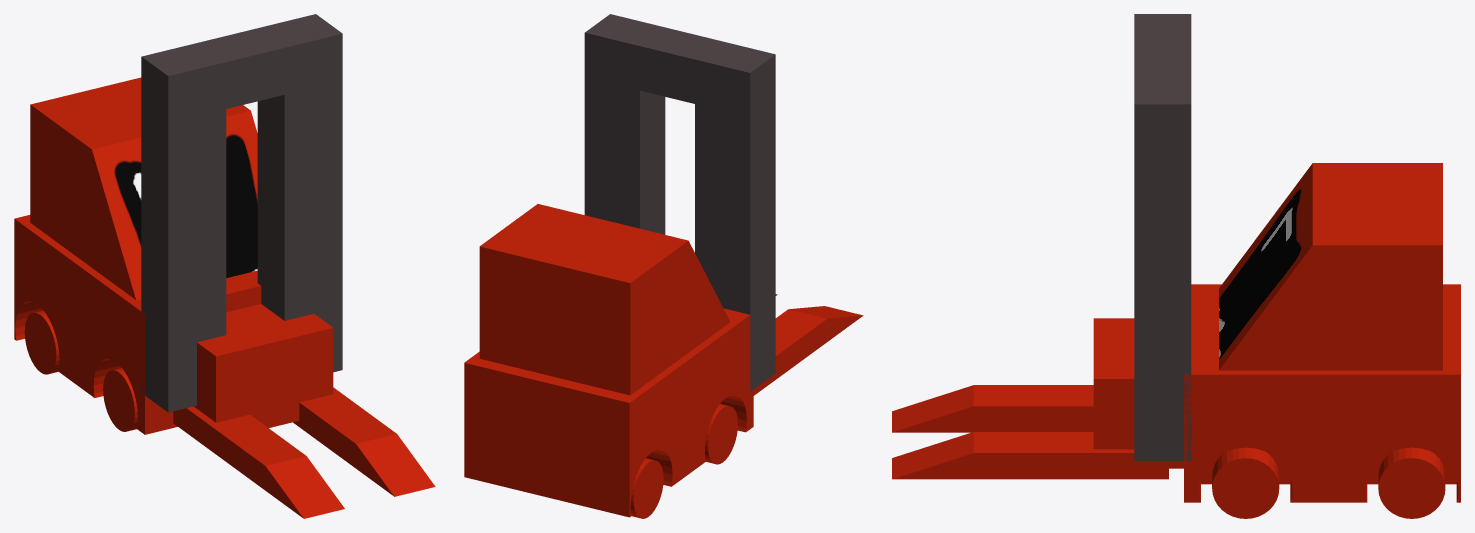
Rendered from forklift.glb.
3 renders of one model, left to right at view 1: azimuth 30°, elevation 25°; view 2: azimuth 150°, elevation 25°; view 3: azimuth 270°, elevation 25°, orthographic. The views are drawn at different scales.
Parts seen in each view (by area): view 1: Cube; view 2: Cube; view 3: Cube.
Part boxes in pixels (box(x1,y1,x2,y2)): Cube: box(14, 14, 435, 518); Cube: box(464, 14, 863, 518); Cube: box(892, 14, 1460, 518).
Size of the model in its own units: 1.54 by 3.32 by 4.11.
1 material, 1 textured.
